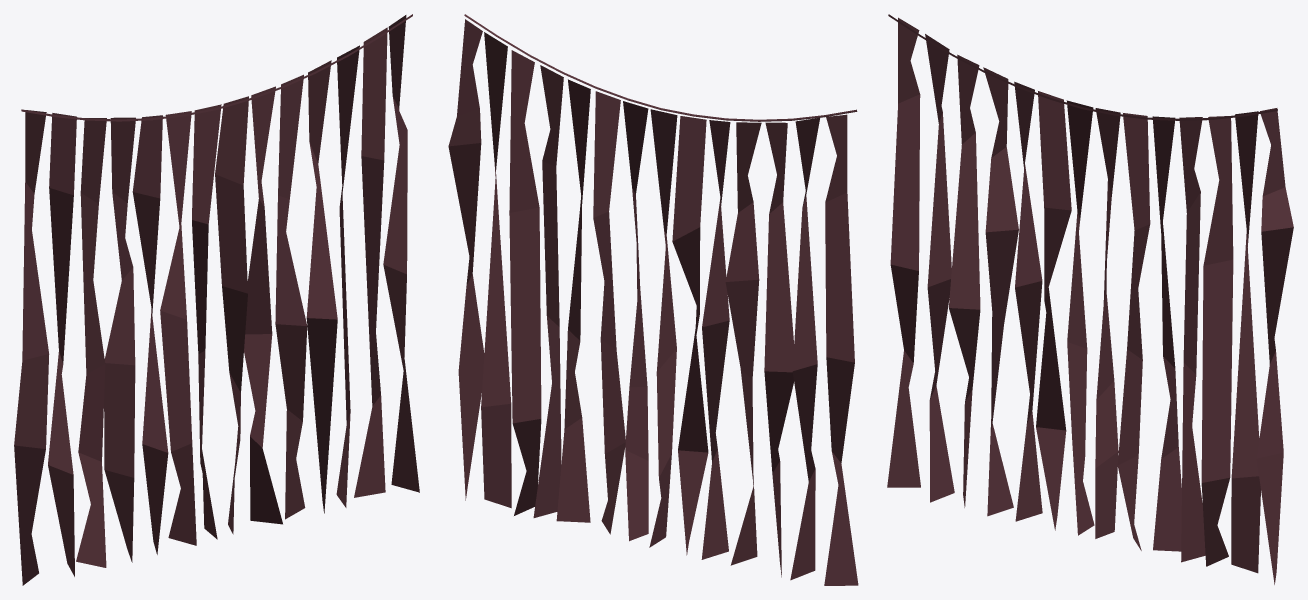
The model's file is celebration-wall-big.fbx.
3 views of the same model, side by side, from view 1: azimuth 30°, elevation 25°; view 2: azimuth 150°, elevation 25°; view 3: azimuth 330°, elevation 25° (orthographic).
Visible parts, largest first — view 1: celebration-wall-big; view 2: celebration-wall-big; view 3: celebration-wall-big.
Part boxes in pixels (x1=…): celebration-wall-big: x1=14, y1=14, x2=419, y2=585; celebration-wall-big: x1=448, y1=14, x2=858, y2=585; celebration-wall-big: x1=887, y1=14, x2=1293, y2=584.
Size of the model in its own units: 2.54 by 2.9 by 0.2268.
